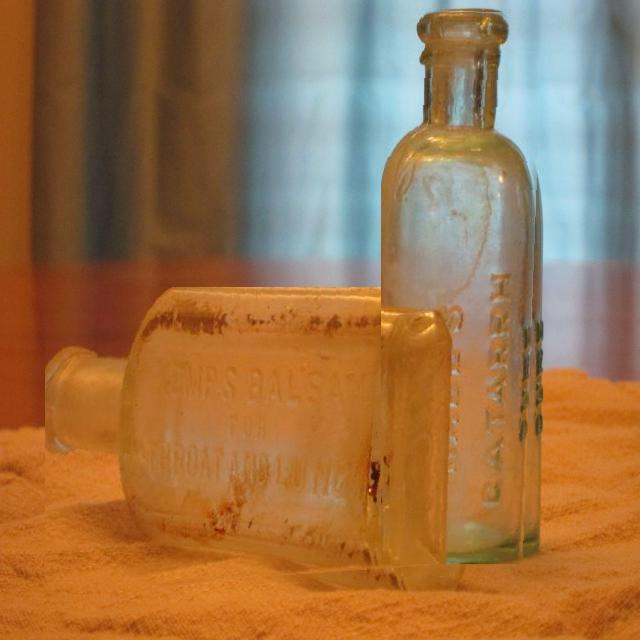Glass: (46, 287, 466, 594), (381, 8, 543, 564)
